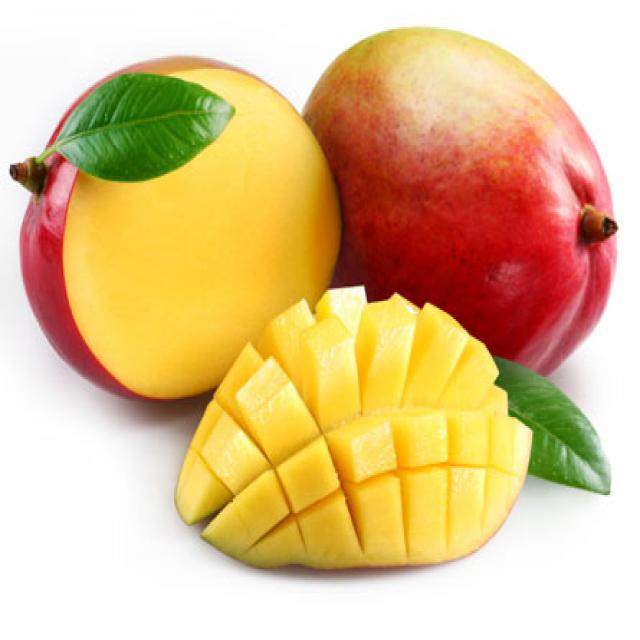mango: (306, 27, 616, 370)
